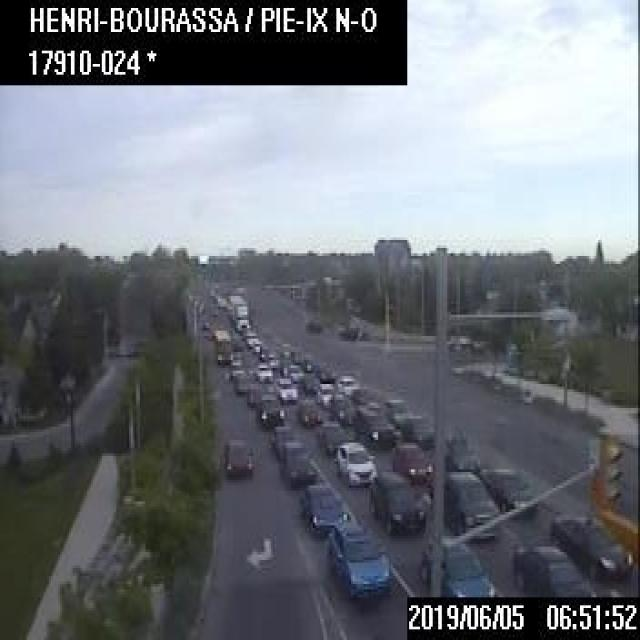vehicle: (550, 513, 631, 577), (426, 470, 498, 538), (326, 520, 388, 597), (418, 540, 498, 594), (510, 545, 594, 594), (367, 469, 425, 532), (477, 466, 536, 515), (298, 483, 344, 532), (352, 400, 394, 447), (333, 439, 375, 481), (278, 439, 314, 484), (390, 441, 431, 479), (223, 435, 254, 477), (399, 413, 433, 446), (315, 419, 345, 452), (381, 396, 413, 424), (256, 394, 283, 426), (228, 293, 249, 331), (270, 424, 294, 455), (328, 393, 352, 422), (213, 327, 232, 362), (295, 397, 319, 423), (274, 375, 295, 400), (334, 372, 356, 394), (315, 381, 334, 404), (300, 371, 318, 393), (247, 381, 263, 404), (282, 362, 302, 378), (255, 360, 271, 380), (318, 359, 333, 379), (304, 316, 320, 332), (266, 350, 279, 367), (302, 353, 316, 368), (244, 329, 256, 344), (258, 343, 268, 358), (252, 338, 261, 350)
